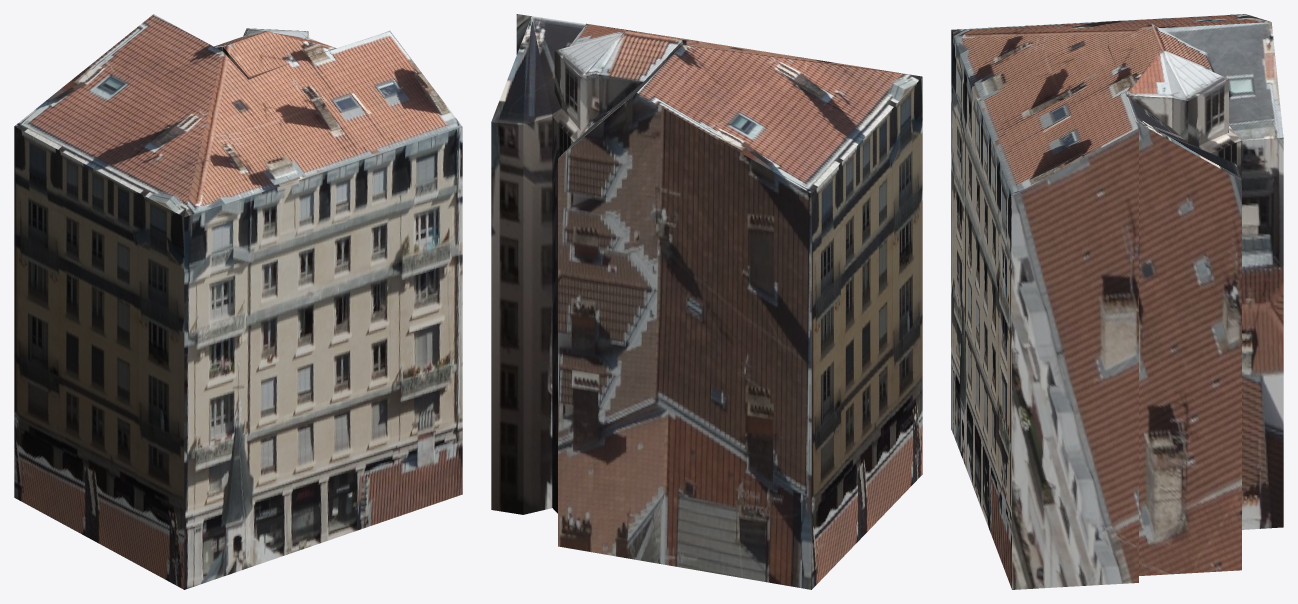
3 views of the same model, side by side, from view 1: azimuth 30°, elevation 25°; view 2: azimuth 150°, elevation 25°; view 3: azimuth 270°, elevation 25° (orthographic). The views are drawn at different scales.
Visible parts, largest first — view 1: Z_UP; view 2: Z_UP; view 3: Z_UP.
Part boxes in pixels (x1,y1,x2,y2): Z_UP: (14,14,462,589); Z_UP: (491,14,922,589); Z_UP: (951,14,1283,589).
Size of the model in its own units: 22.47 by 28 by 17.74.
2 materials, 1 textured.
